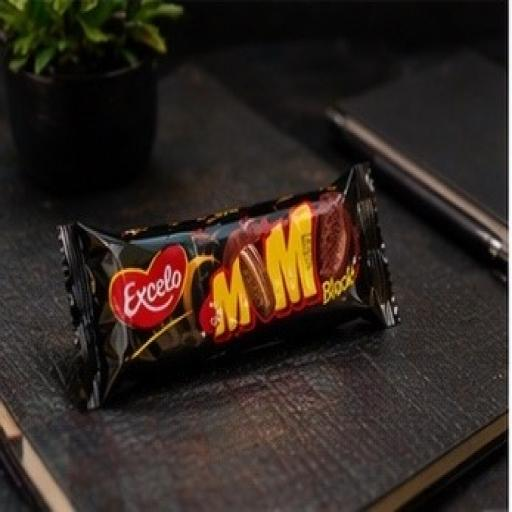MOMO: (38, 152, 435, 418)
